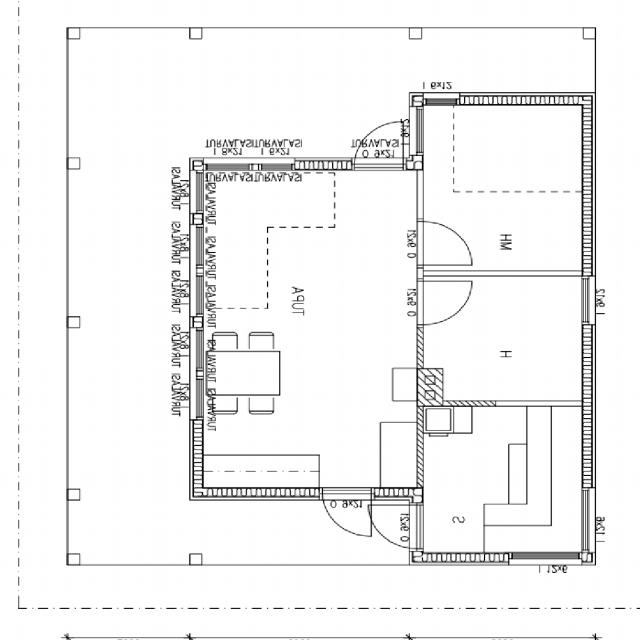door: (361, 504, 424, 548), (323, 487, 371, 542), (356, 115, 403, 170), (416, 282, 472, 324), (416, 222, 471, 264)
